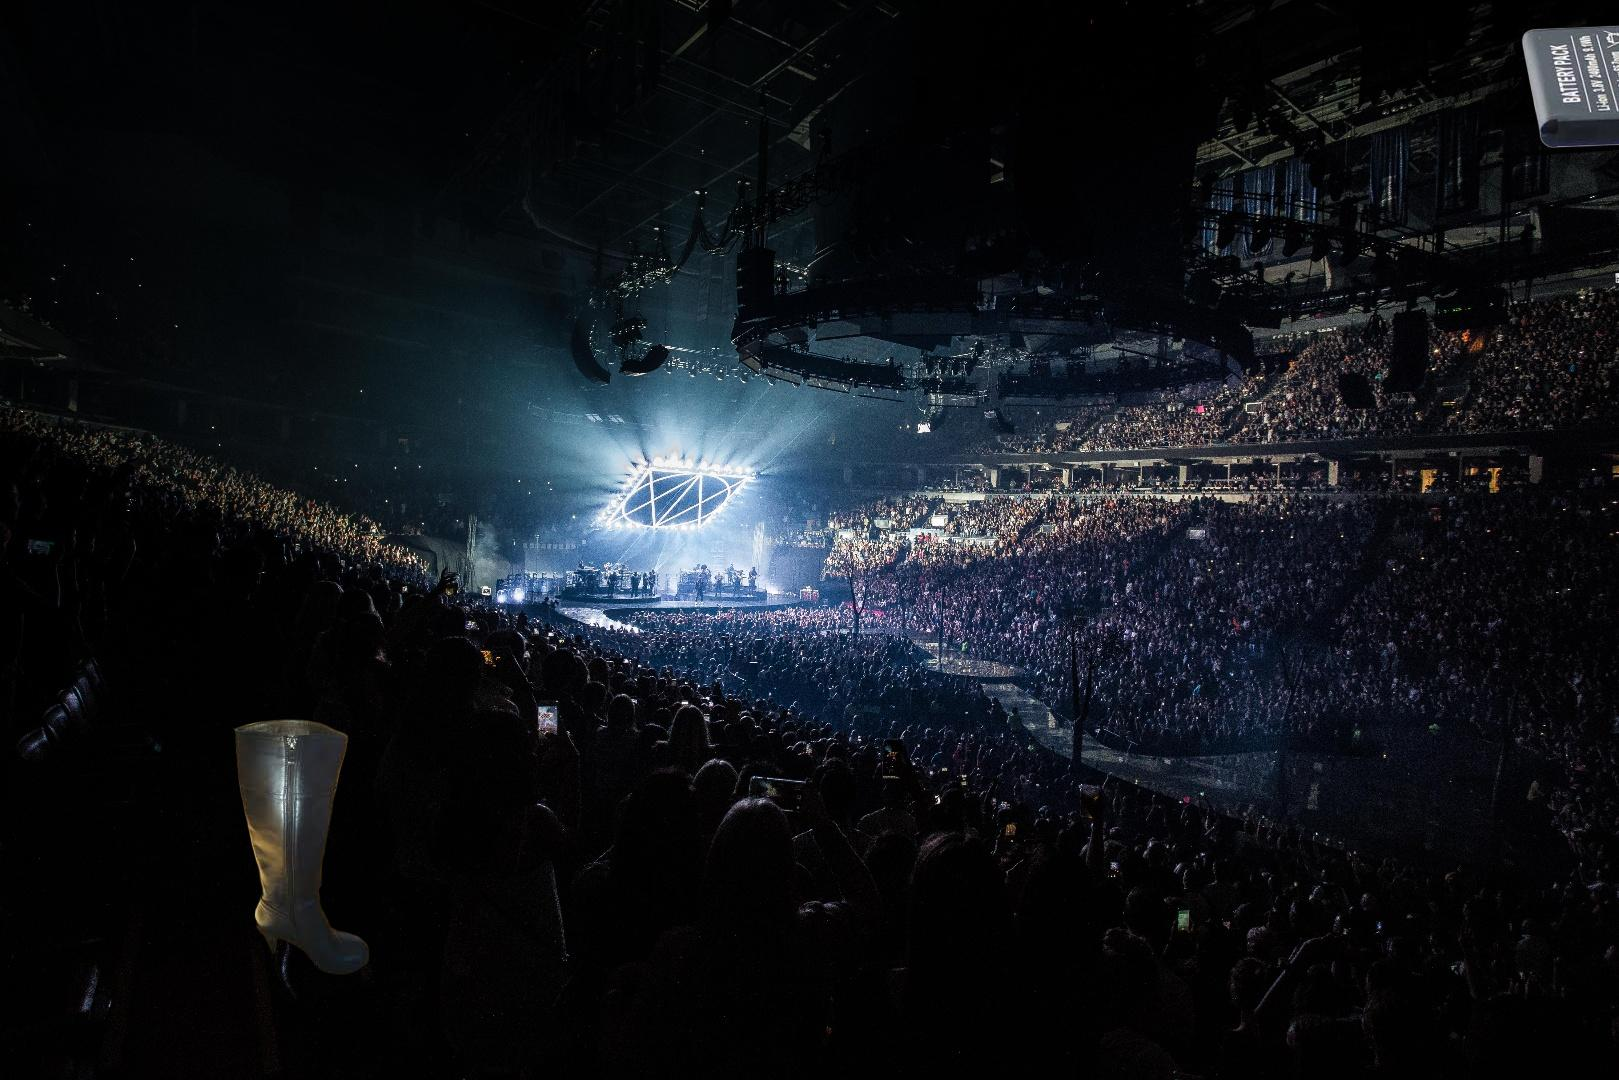battery: (1519, 19, 1619, 151)
shoes: (231, 718, 373, 978)
trash: (1605, 127, 1619, 321)
